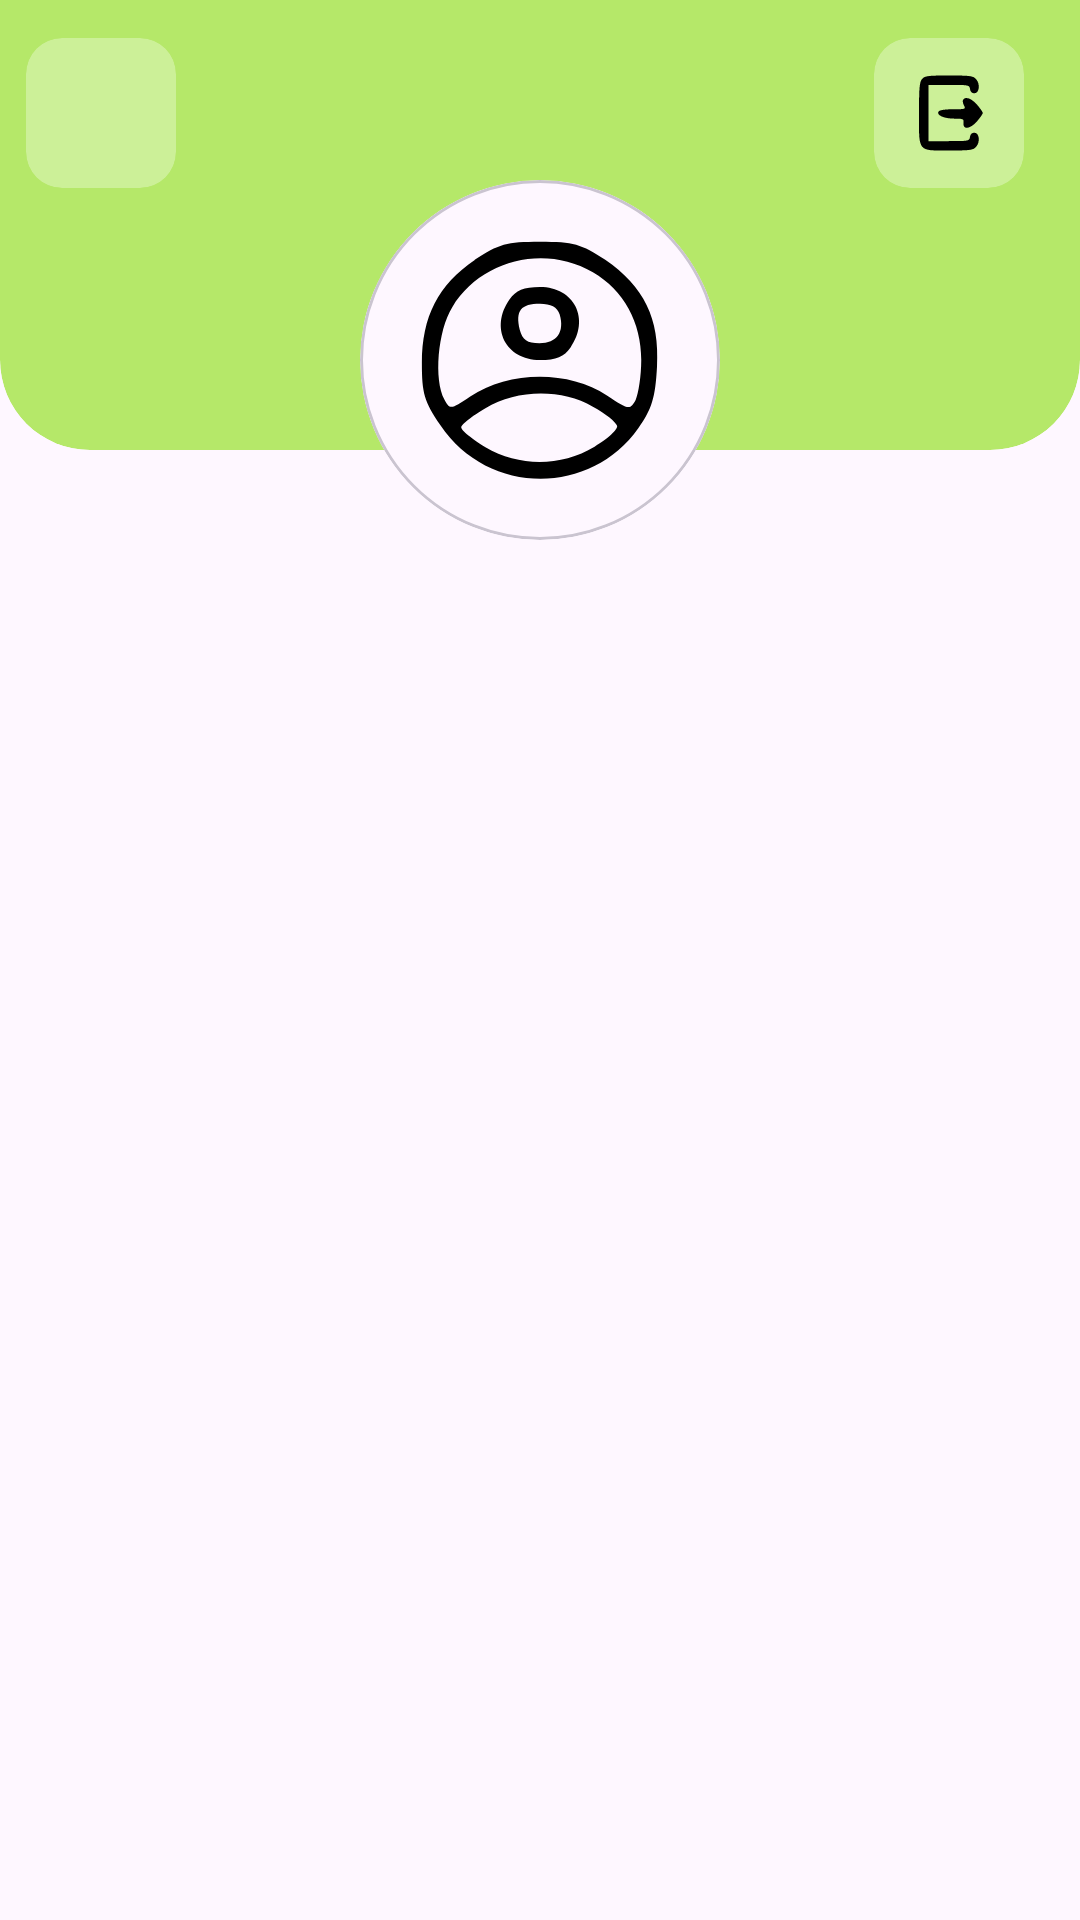

Point at icon controls on the screen. Image size 1080w x 1920h, points as point (x, y).
Фото акаунта: point (540, 360)
